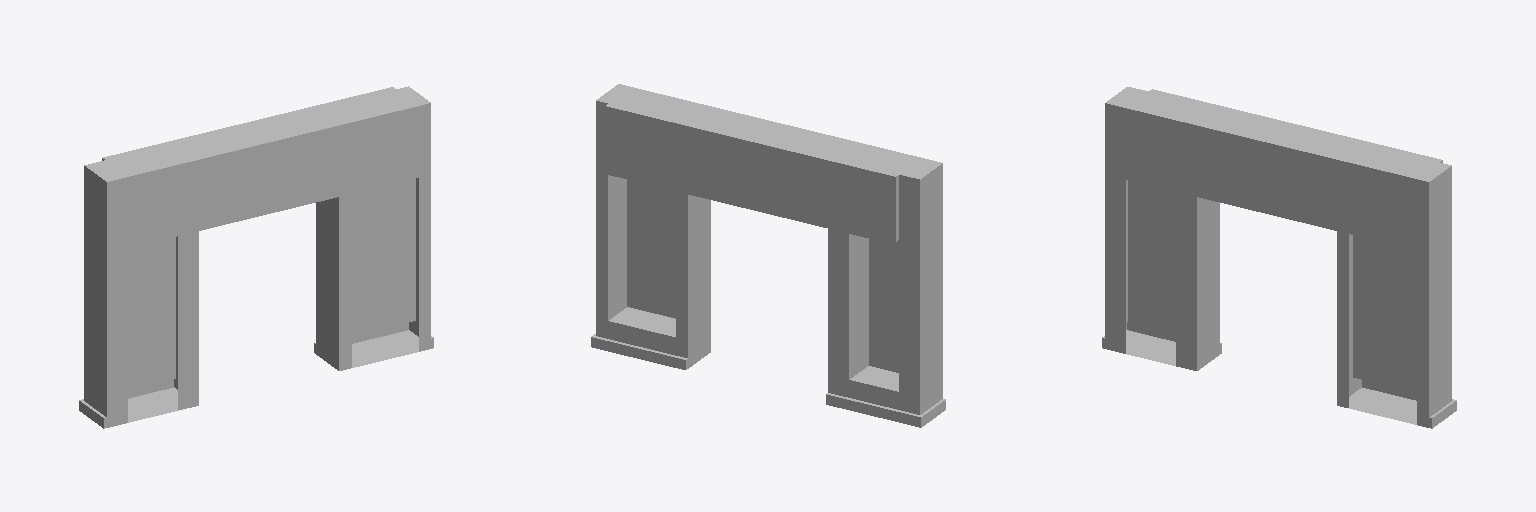
The model's file is shopfront_1.obj.
3 renders of one model, left to right at view 1: azimuth 30°, elevation 25°; view 2: azimuth 150°, elevation 25°; view 3: azimuth 330°, elevation 25°, orthographic.
Parts seen in each view (by area): view 1: Cube.010; view 2: Cube.010; view 3: Cube.010.
Part boxes in pixels (bbox=[...]): Cube.010: bbox=[79, 86, 433, 428]; Cube.010: bbox=[591, 84, 945, 427]; Cube.010: bbox=[1102, 87, 1456, 428].
Size of the model in its own units: 32.04 by 22.8 by 4.4.